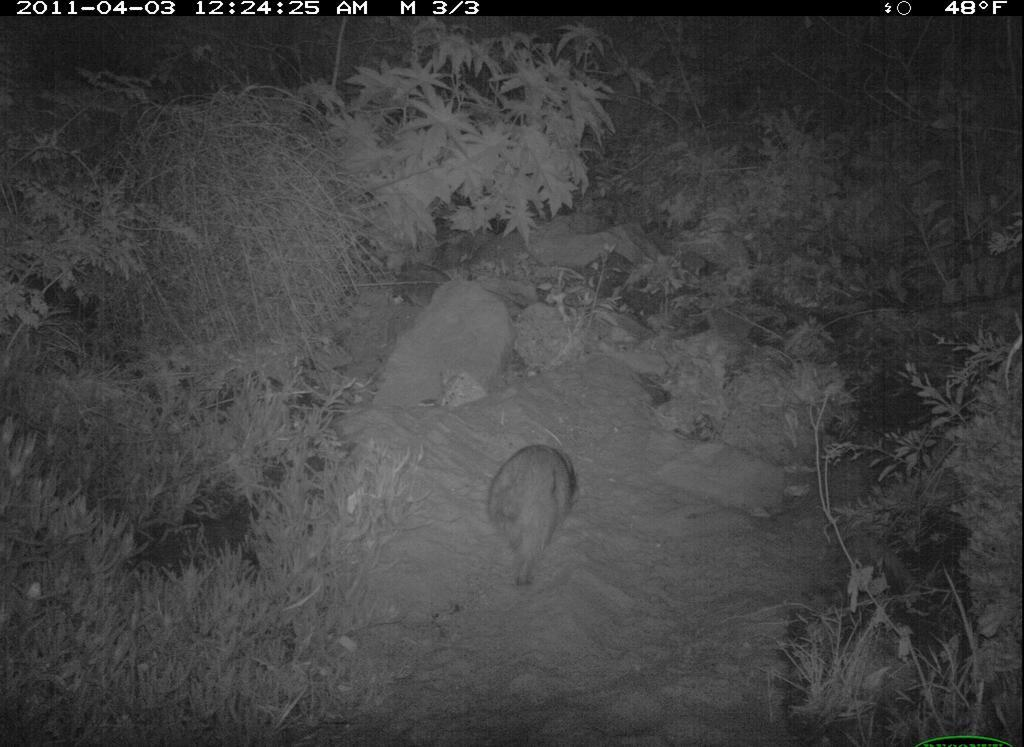raccoon: (482, 432, 583, 594)
